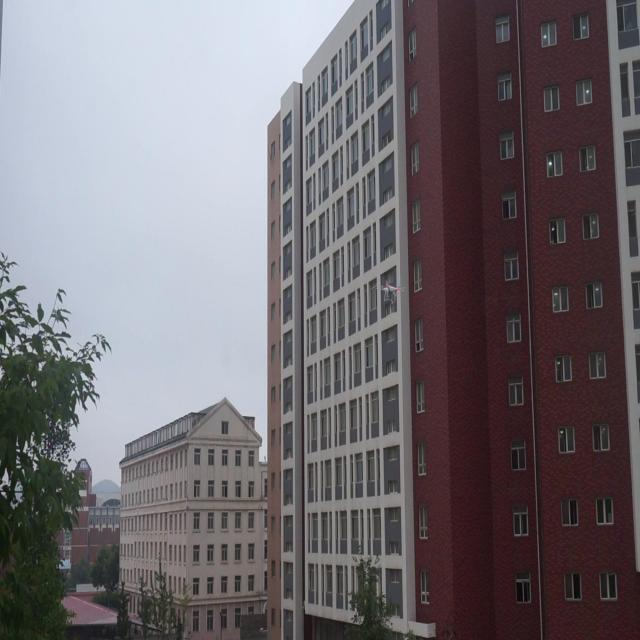UAV: (376, 281, 405, 304)
